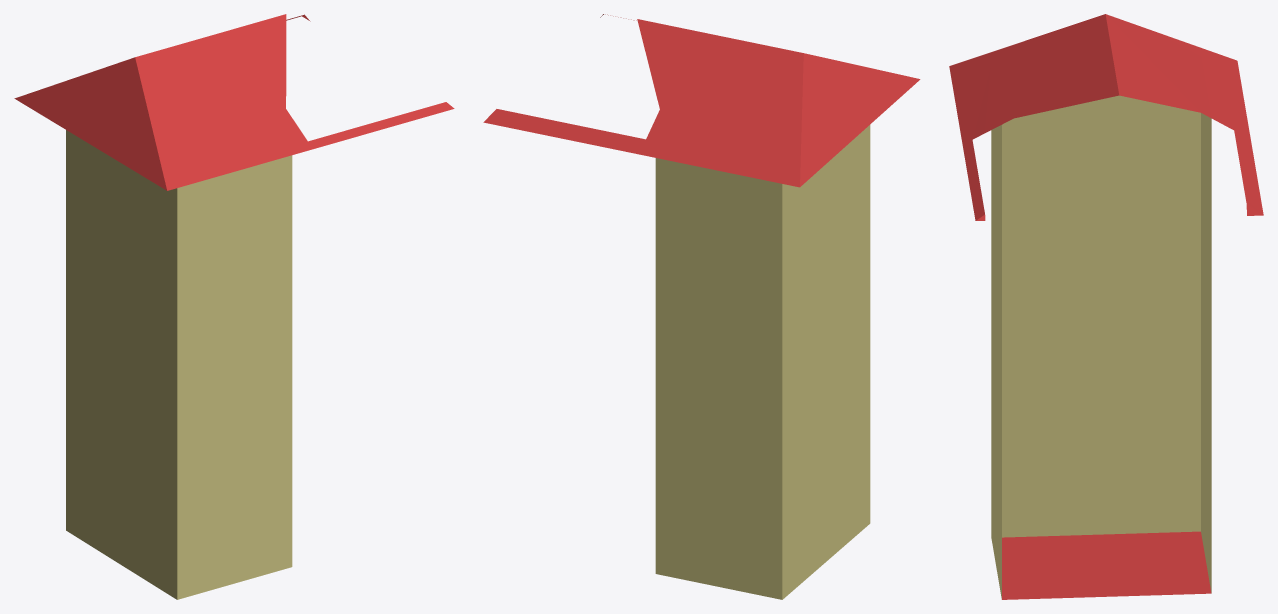
The picture shows the model from 3 angles, left to right: view 1: azimuth 30°, elevation 25°; view 2: azimuth 150°, elevation 25°; view 3: azimuth 270°, elevation 25°; orthographic projection. The views are drawn at different scales.
Visible parts, largest first — view 1: group_5, group_3, group_4; view 2: group_5, group_3, group_4; view 3: group_5, group_3, group_6, group_4.
Boxes of the visible parts, x1=… form: group_5: x1=66, y1=130, x2=292, y2=599; group_3: x1=14, y1=14, x2=454, y2=190; group_4: x1=150, y1=16, x2=453, y2=190; group_5: x1=655, y1=125, x2=870, y2=599; group_3: x1=483, y1=14, x2=920, y2=187; group_4: x1=485, y1=14, x2=798, y2=187; group_5: x1=991, y1=95, x2=1211, y2=599; group_3: x1=949, y1=14, x2=1263, y2=220; group_6: x1=1002, y1=531, x2=1211, y2=599; group_4: x1=959, y1=37, x2=1263, y2=220.
Size of the model in its own units: 7.37 by 5.98 by 11.12.
